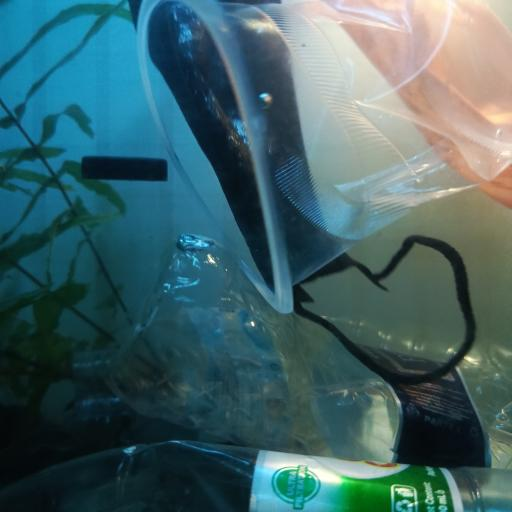bottle_cap: (83, 156, 167, 183)
mask: (152, 0, 476, 387), (304, 0, 512, 205)
plastic_bottle: (106, 235, 512, 465), (67, 302, 512, 439), (0, 437, 512, 512)
plastic_cup: (135, 2, 512, 310)
